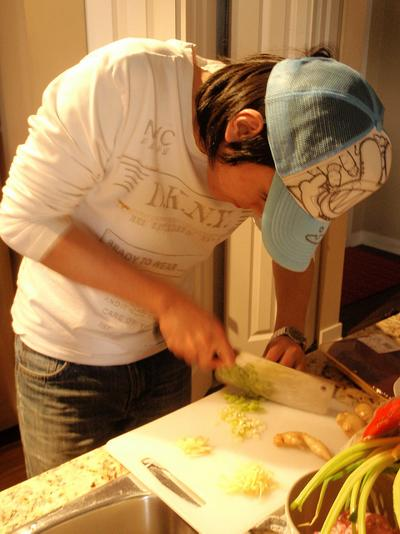person: (1, 38, 390, 482)
